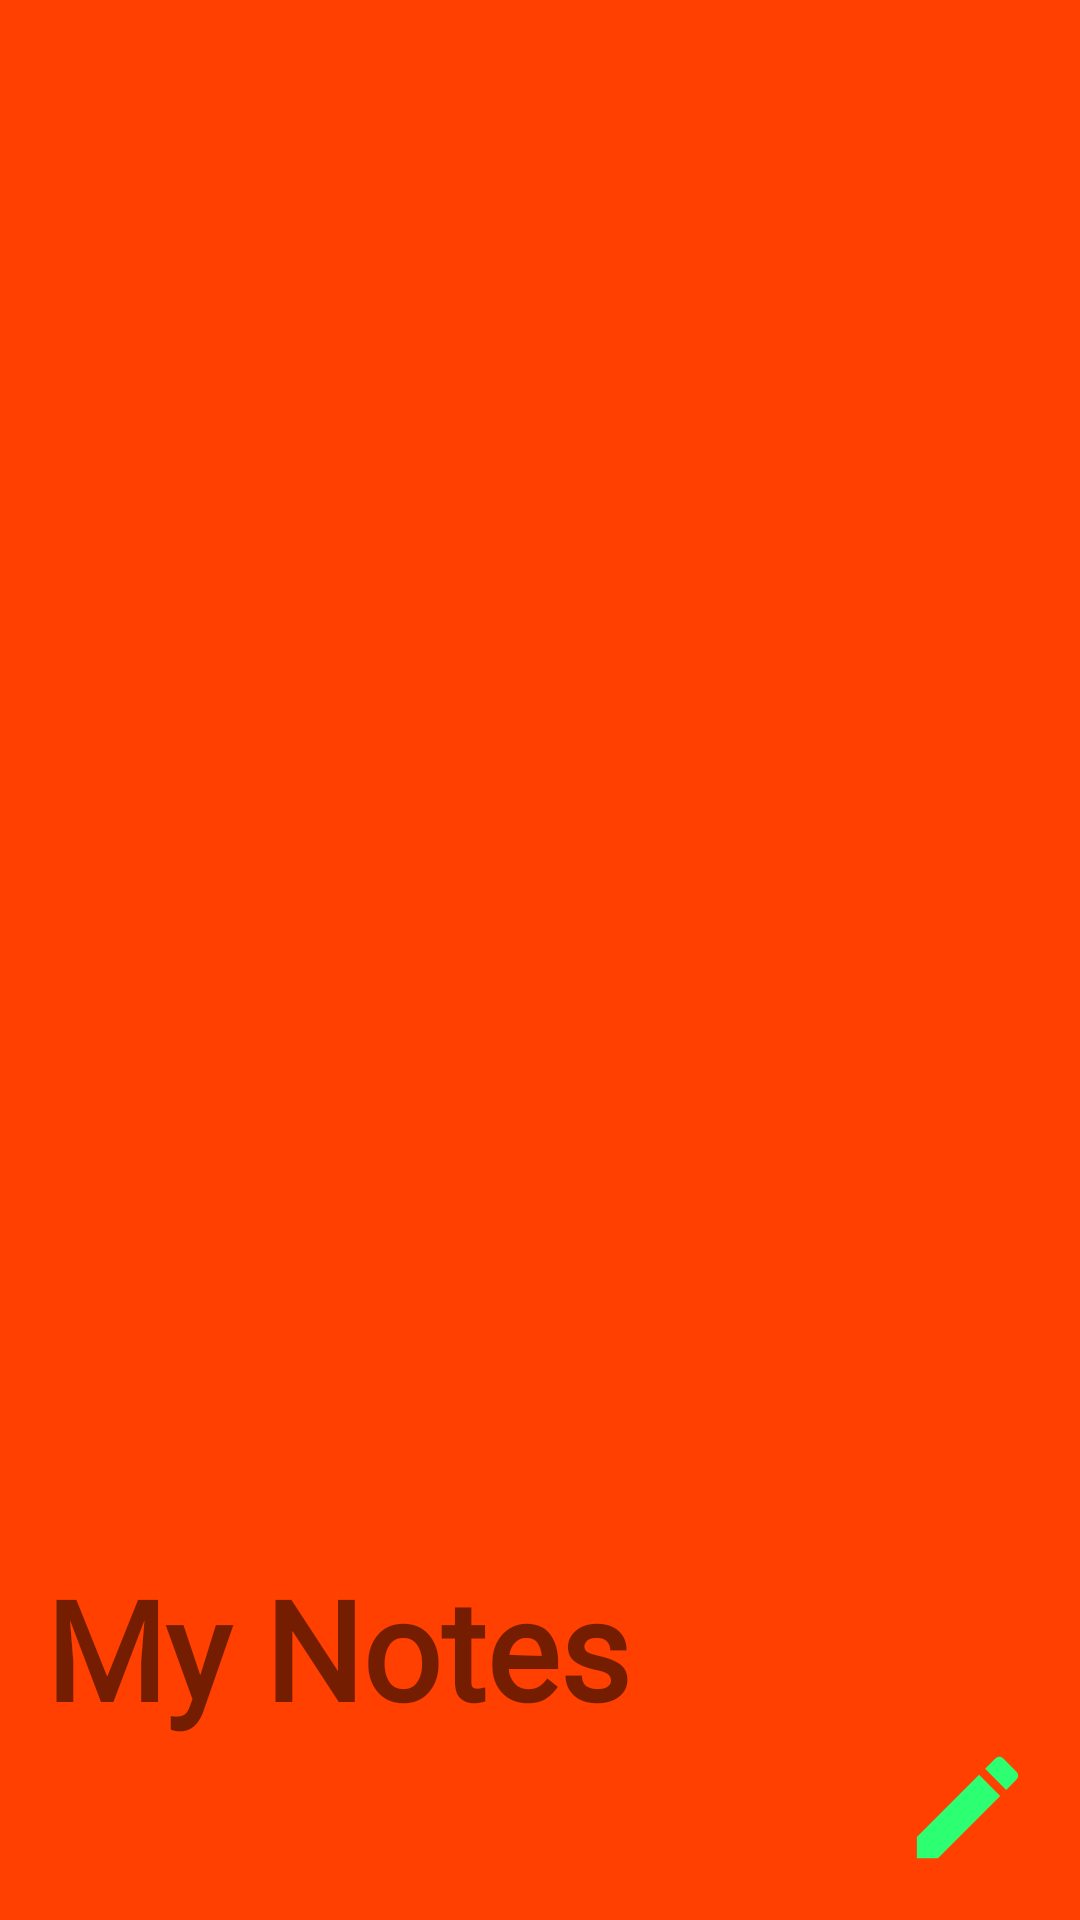

Where to tap for icons on this 1080*1920 app screen, as (x,y):
create: (967,1807)
